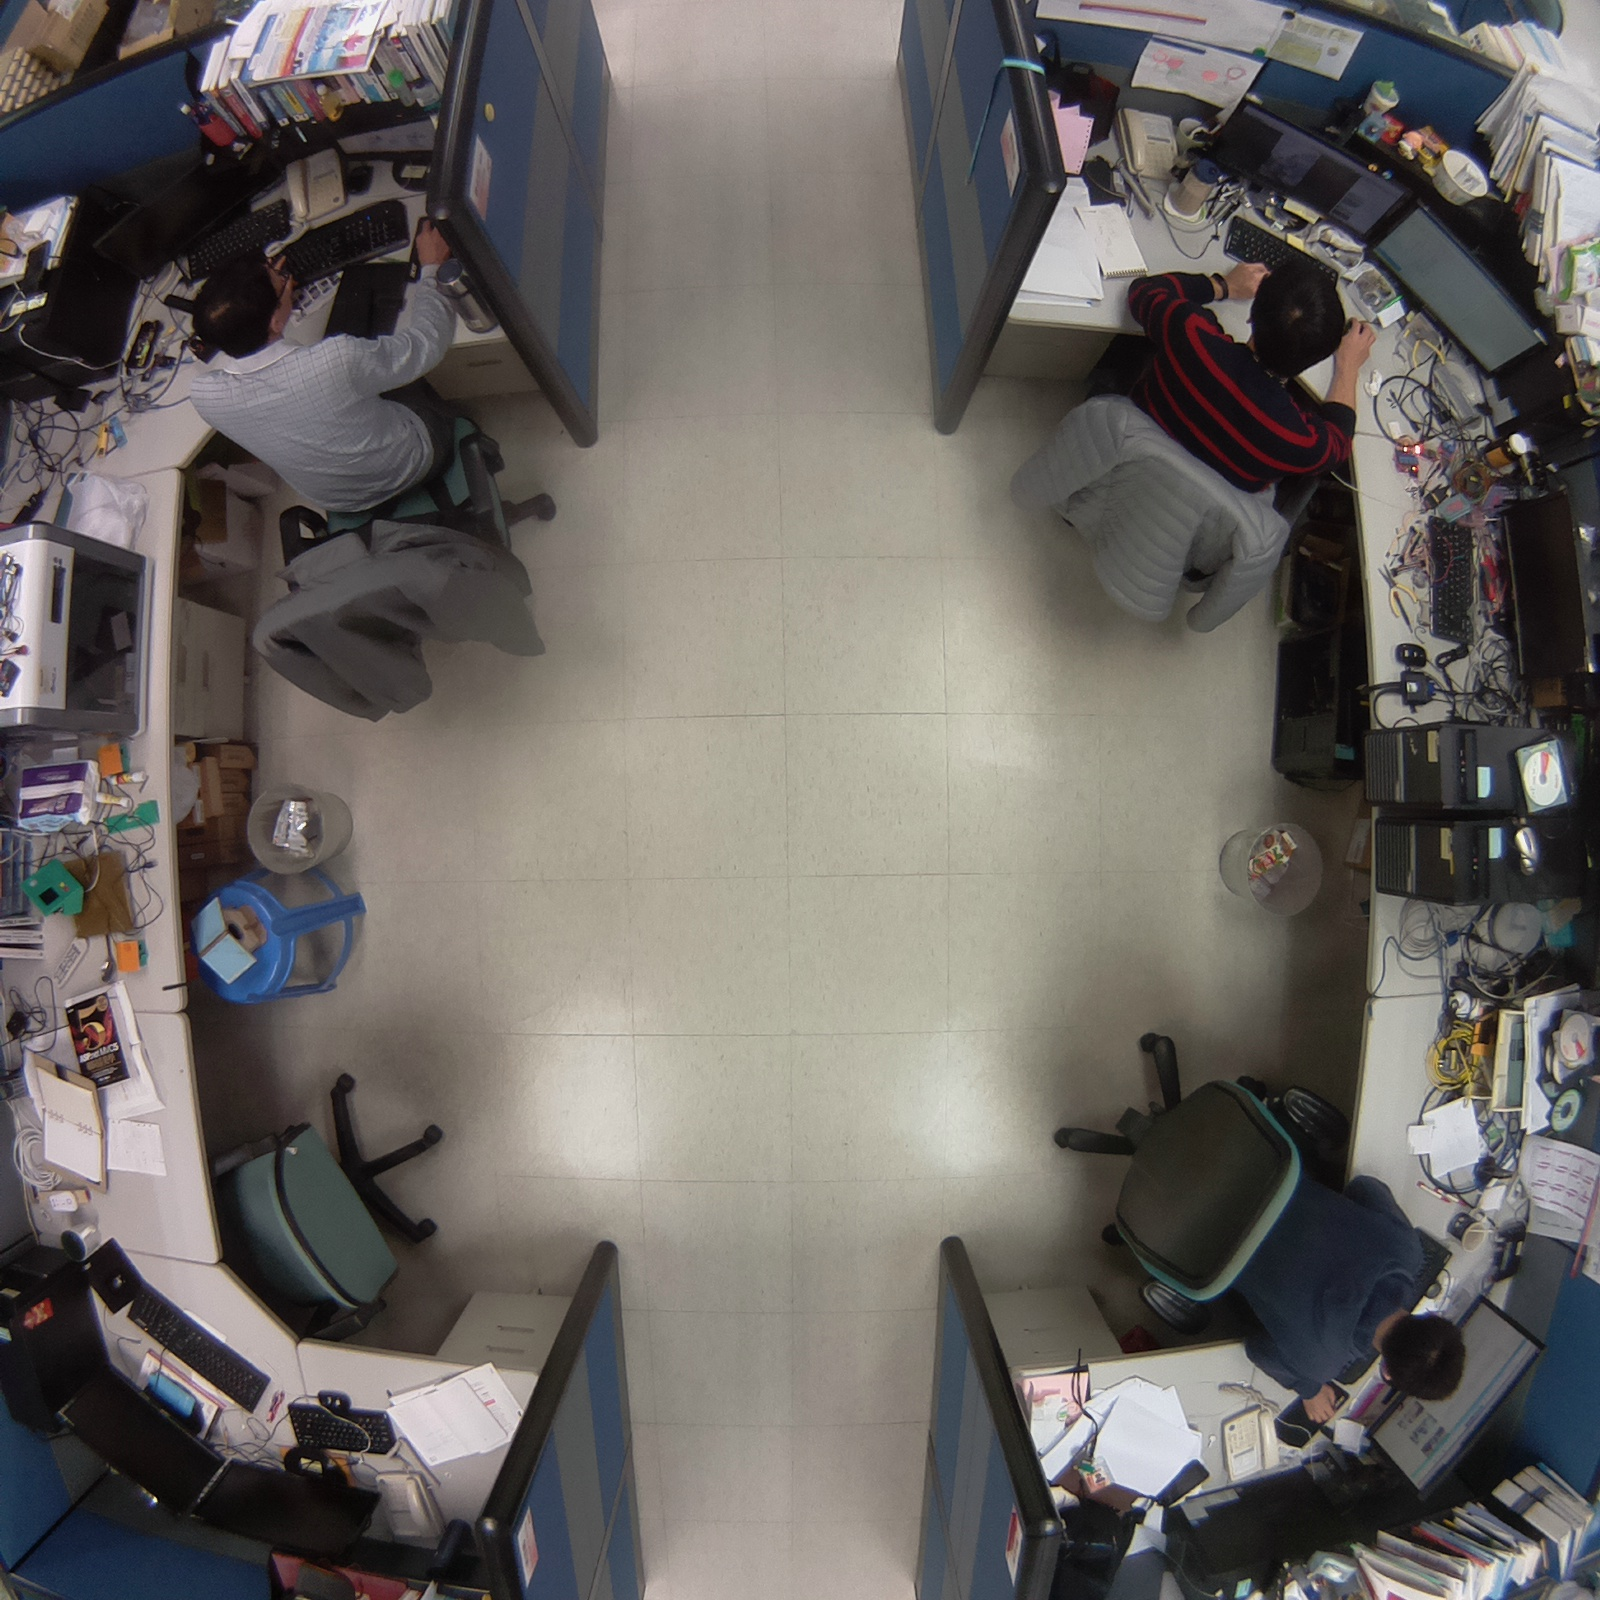chair: (188, 1055, 470, 1350)
head: (1244, 259, 1355, 378), (187, 257, 304, 361), (1376, 1310, 1470, 1410)
sitting: (173, 212, 576, 734), (1035, 1014, 1473, 1435), (988, 241, 1379, 660)
